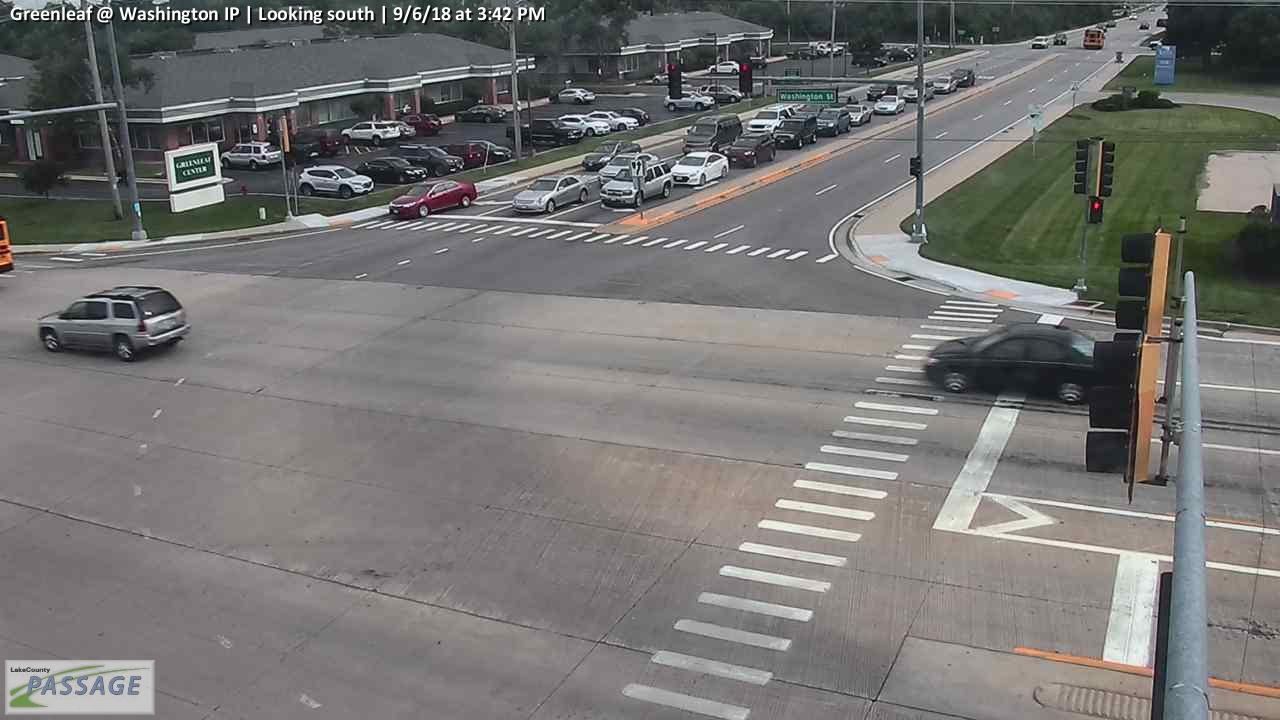Bus: (1084, 28, 1105, 47)
SUV: (35, 285, 188, 360), (600, 161, 672, 207), (680, 113, 744, 154), (296, 165, 375, 197), (392, 144, 463, 176), (217, 141, 280, 166), (528, 118, 581, 145), (557, 113, 611, 136), (341, 120, 400, 141), (583, 110, 638, 130), (664, 90, 715, 110), (815, 107, 851, 135)
Sedan: (925, 322, 1098, 403), (512, 173, 589, 215), (598, 151, 659, 190), (671, 152, 729, 186), (582, 140, 643, 171), (729, 134, 777, 167), (745, 107, 795, 137), (771, 117, 815, 148), (455, 104, 506, 124), (464, 140, 512, 160), (874, 93, 904, 113), (905, 83, 933, 102), (556, 87, 594, 101), (848, 102, 871, 123), (954, 67, 976, 85), (934, 76, 956, 93), (1031, 35, 1049, 48), (1053, 32, 1068, 45)
